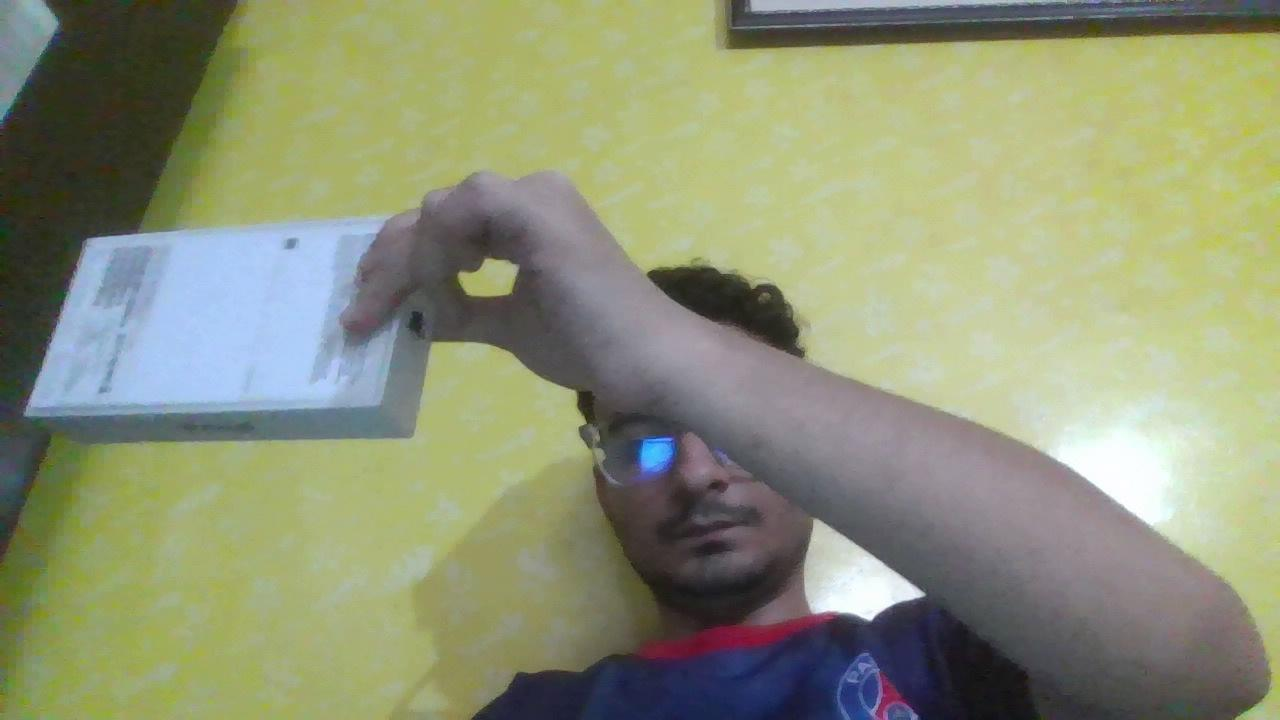Phone: (0, 170, 480, 487)
